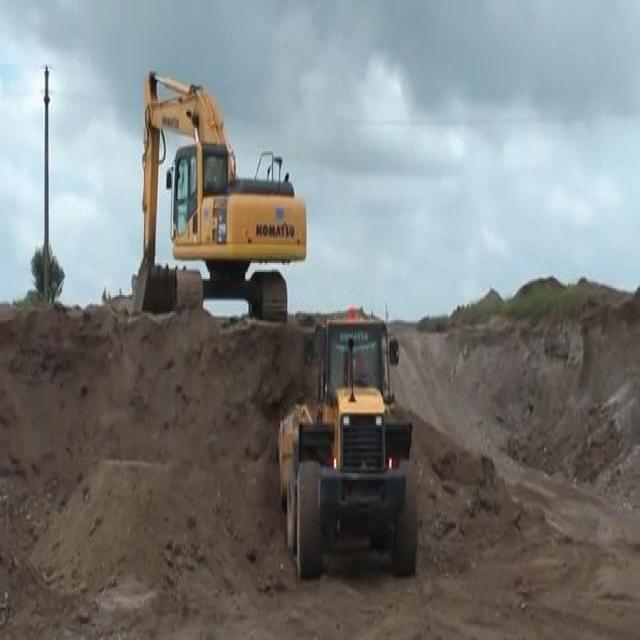buldozerpayloadergrader: (277, 303, 418, 582)
excavator: (132, 68, 308, 322)
